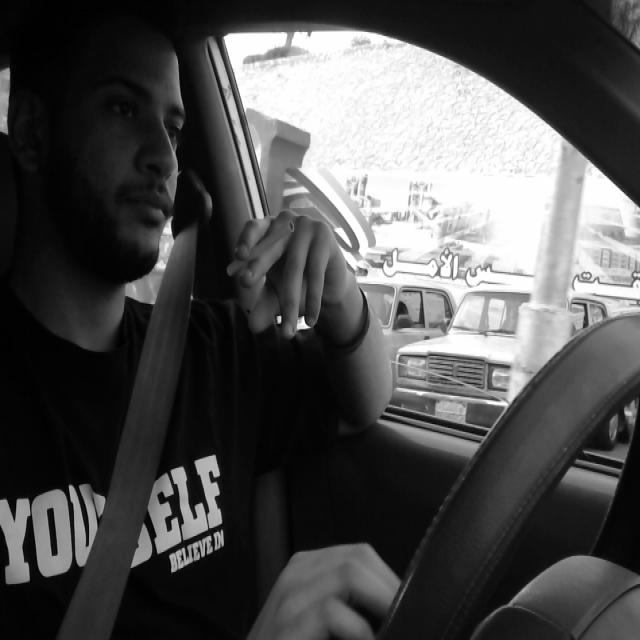smoking: (225, 218, 297, 294)
